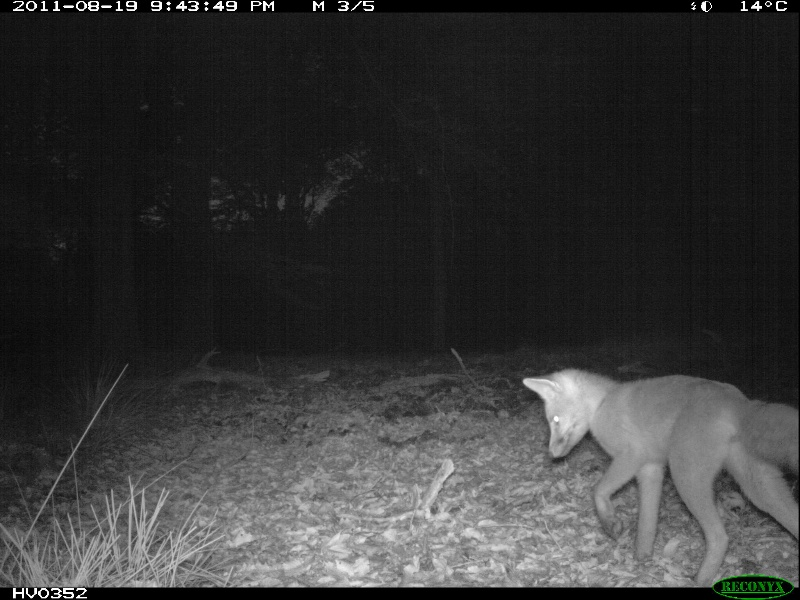fox: (515, 363, 800, 582)
